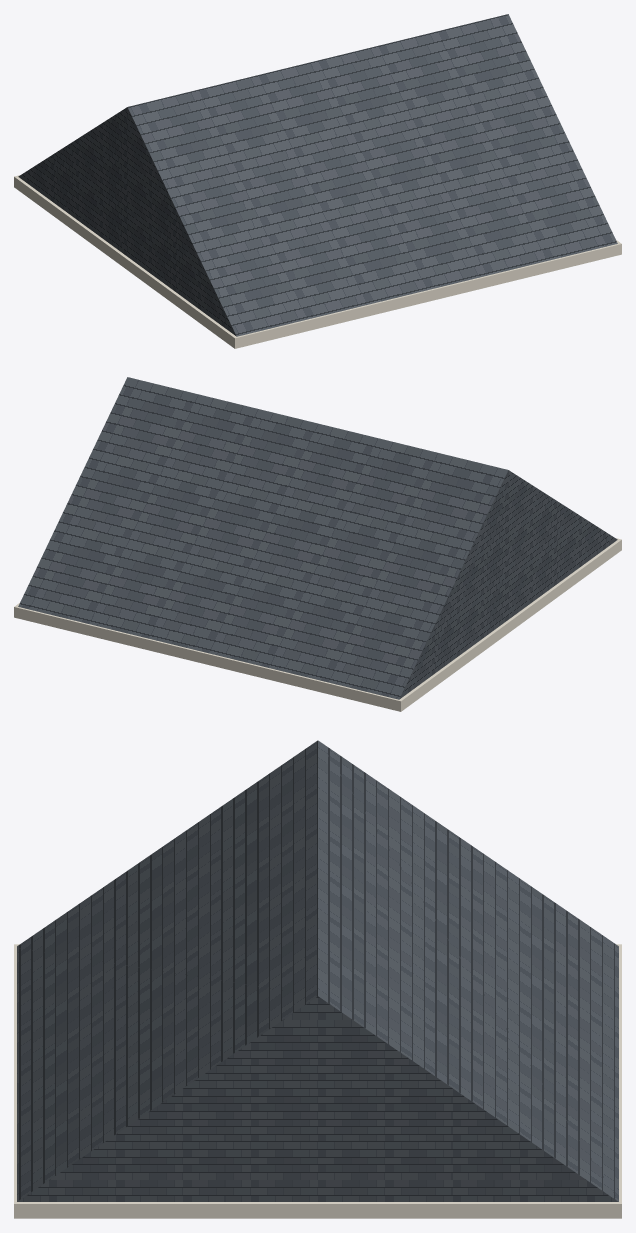
The model's file is roof-pitch-9.obj.
3 renders of one model, top to bottom at view 1: azimuth 30°, elevation 25°; view 2: azimuth 150°, elevation 25°; view 3: azimuth 270°, elevation 25°, orthographic. The views are drawn at different scales.
Parts seen in each view (by area): view 1: part2, part1.nocast; view 2: part2, part1.nocast; view 3: part2, part1.nocast.
Part boxes in pixels (box(x1,y1,x2,y2)): part2: box(18, 14, 617, 336); part1.nocast: box(14, 175, 621, 348); part2: box(18, 377, 617, 699); part1.nocast: box(14, 538, 621, 711); part2: box(17, 740, 618, 1201); part1.nocast: box(14, 944, 621, 1218).
Size of the model in its own units: 9.14 by 3.62 by 9.04.
Materials: 2 (1 with a texture image).
